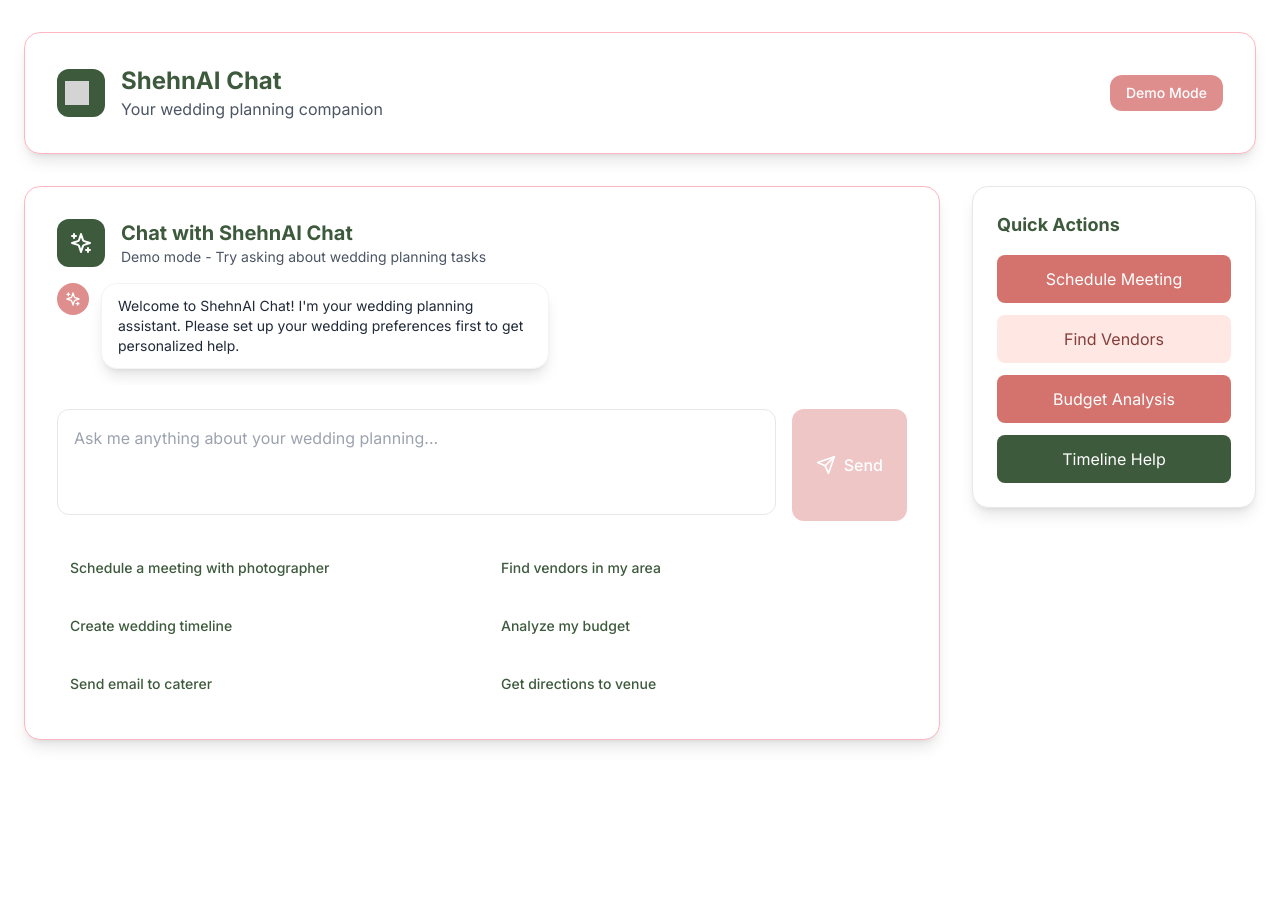
it: AIChat Screen › Quick Prompts › clicking a quick prompt fills the input field
The image size is (1280, 900).
Click the button "Schedule a meeting with photographer" at (266, 568), box x1=57 y1=545 x2=476 y2=591
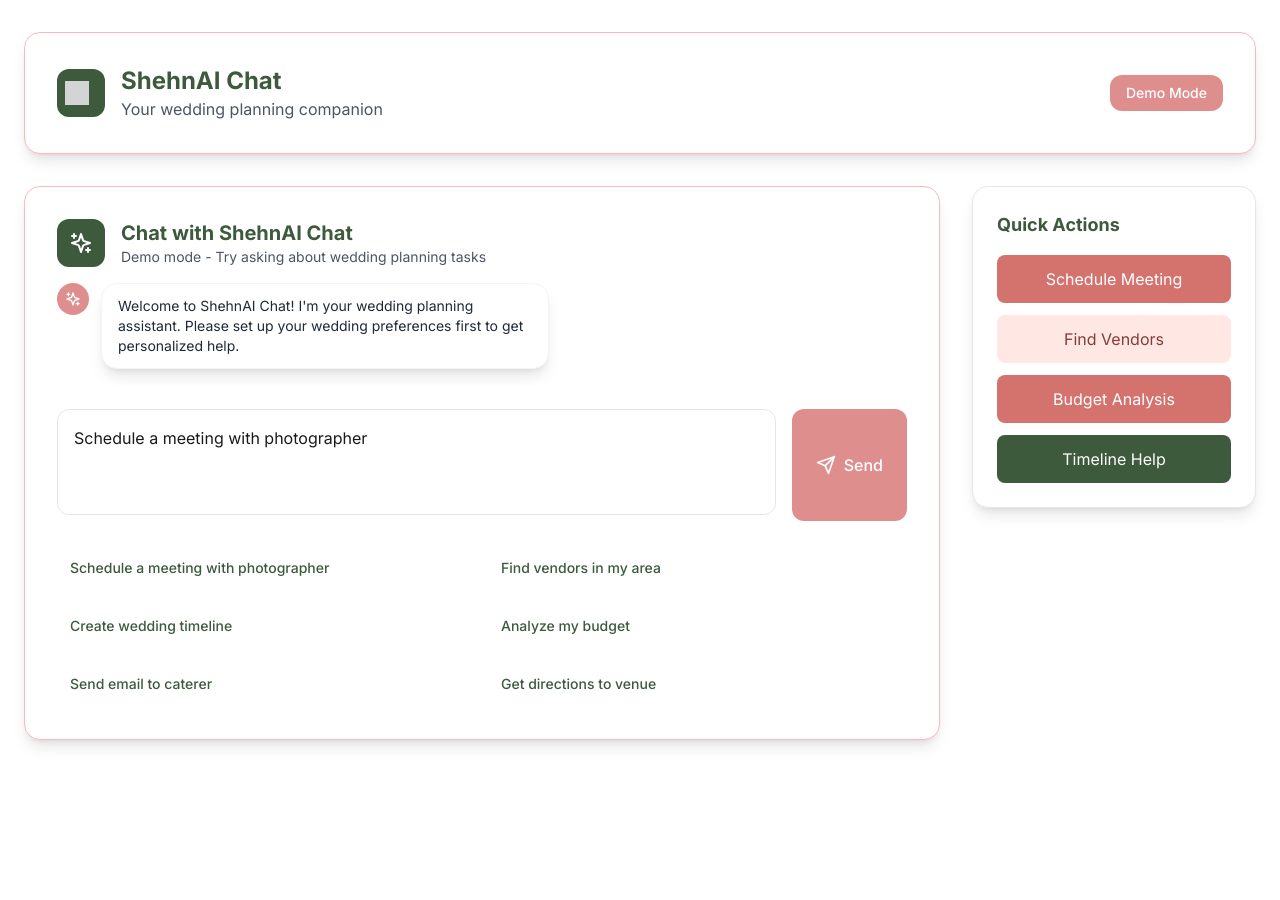
Result: the text box with placeholder "Ask me anything about your wedding planning..." holds "Schedule a meeting with photographer" at x1=57 y1=409 x2=776 y2=515
